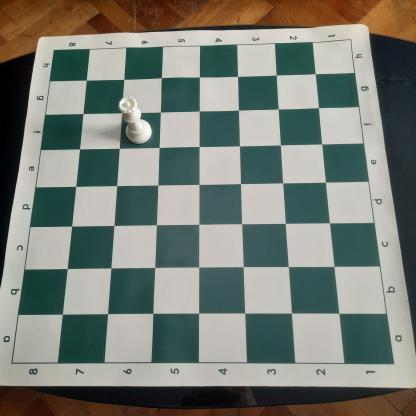white-queen: (117, 95, 154, 144)
